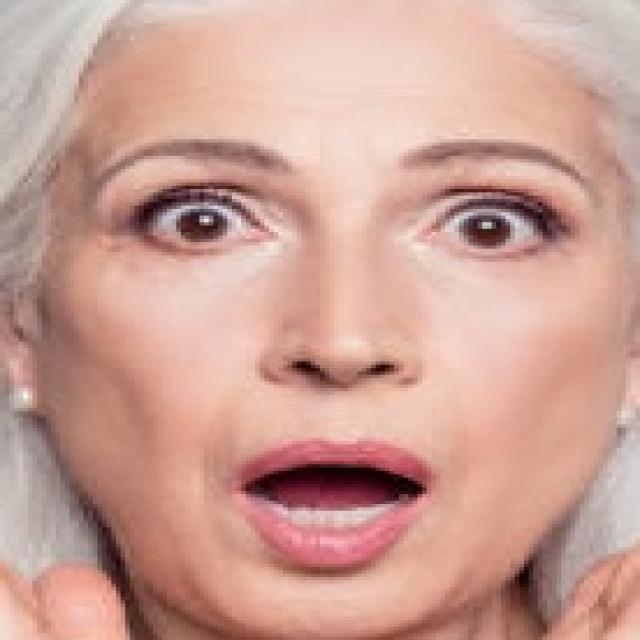Anxiety: (30, 0, 635, 637)
